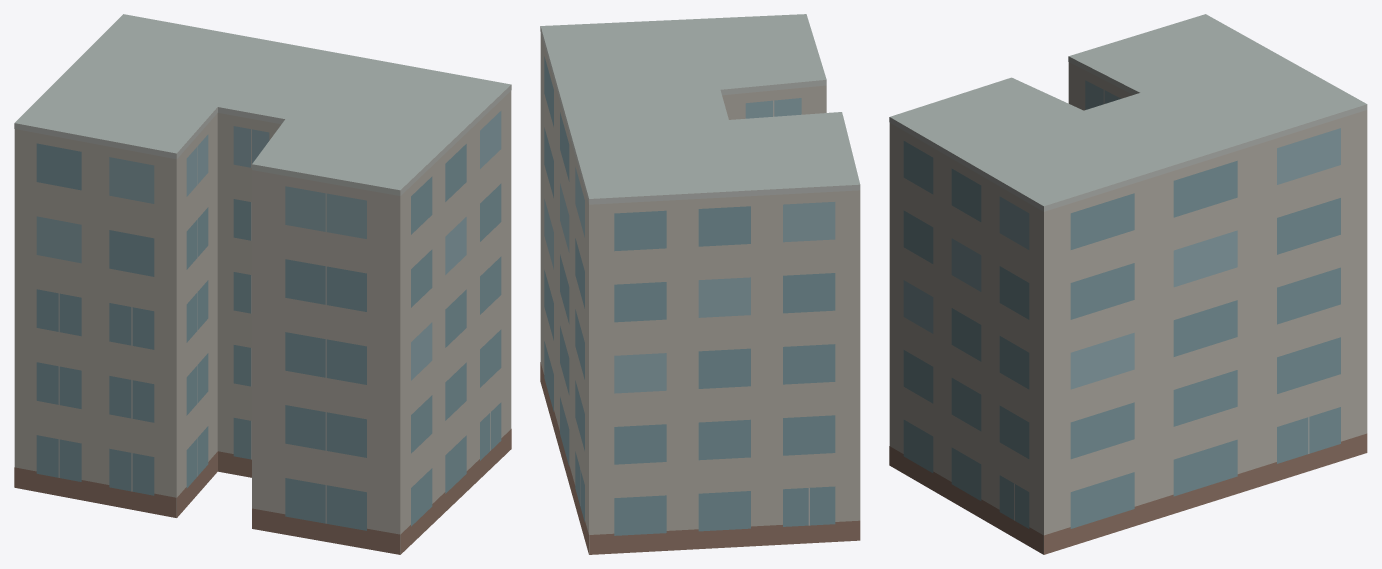
Rendered from survey-upis-32731290.glb.
3 renders of one model, left to right at view 1: azimuth 30°, elevation 25°; view 2: azimuth 150°, elevation 25°; view 3: azimuth 270°, elevation 25°, orthographic. The views are drawn at different scales.
Visible parts, largest first — view 1: survey-upis-32731290.tmp; view 2: survey-upis-32731290.tmp; view 3: survey-upis-32731290.tmp.
Boxes of the visible parts, box(x1,y1,x2,y2) form: survey-upis-32731290.tmp: box(14, 14, 511, 554); survey-upis-32731290.tmp: box(540, 14, 860, 554); survey-upis-32731290.tmp: box(889, 14, 1367, 554).
Size of the model in its own units: 18.05 by 15.25 by 18.95.
